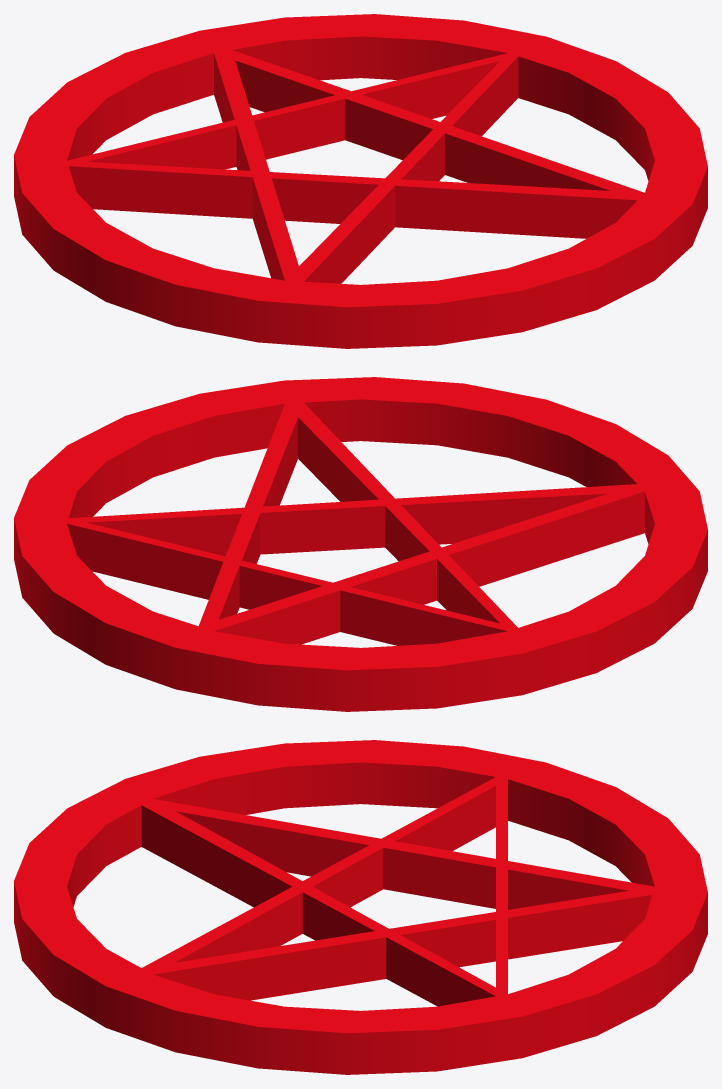
The model's file is pentaculo.fbx.
The picture shows the model from 3 angles, top to bottom: view 1: azimuth 30°, elevation 25°; view 2: azimuth 150°, elevation 25°; view 3: azimuth 270°, elevation 25°; orthographic projection.
Visible parts, largest first — view 1: Model; view 2: Model; view 3: Model.
Boxes of the visible parts, bbox=[...] form: Model: bbox=[14, 14, 707, 348]; Model: bbox=[14, 377, 707, 711]; Model: bbox=[14, 740, 707, 1074].
Size of the model in its own units: 3.78 by 0.25 by 3.78.
